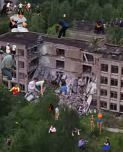Human: (0, 55, 22, 80), (35, 78, 67, 95), (28, 77, 59, 94), (93, 18, 123, 35), (6, 1, 40, 16), (9, 9, 30, 32), (78, 137, 111, 150), (48, 125, 81, 136), (0, 0, 18, 18), (55, 106, 76, 120), (55, 19, 69, 38), (0, 0, 18, 11), (97, 108, 103, 134), (8, 83, 20, 95), (77, 103, 88, 116), (6, 43, 17, 54), (6, 139, 16, 150), (89, 115, 95, 132), (81, 90, 88, 101), (49, 103, 54, 113), (103, 23, 109, 29), (68, 84, 73, 91), (8, 122, 18, 125), (0, 47, 4, 54), (24, 73, 27, 80), (63, 13, 67, 18), (97, 36, 100, 40), (65, 120, 68, 124), (68, 1, 70, 6), (94, 109, 96, 114), (56, 49, 59, 52), (18, 100, 21, 103)
